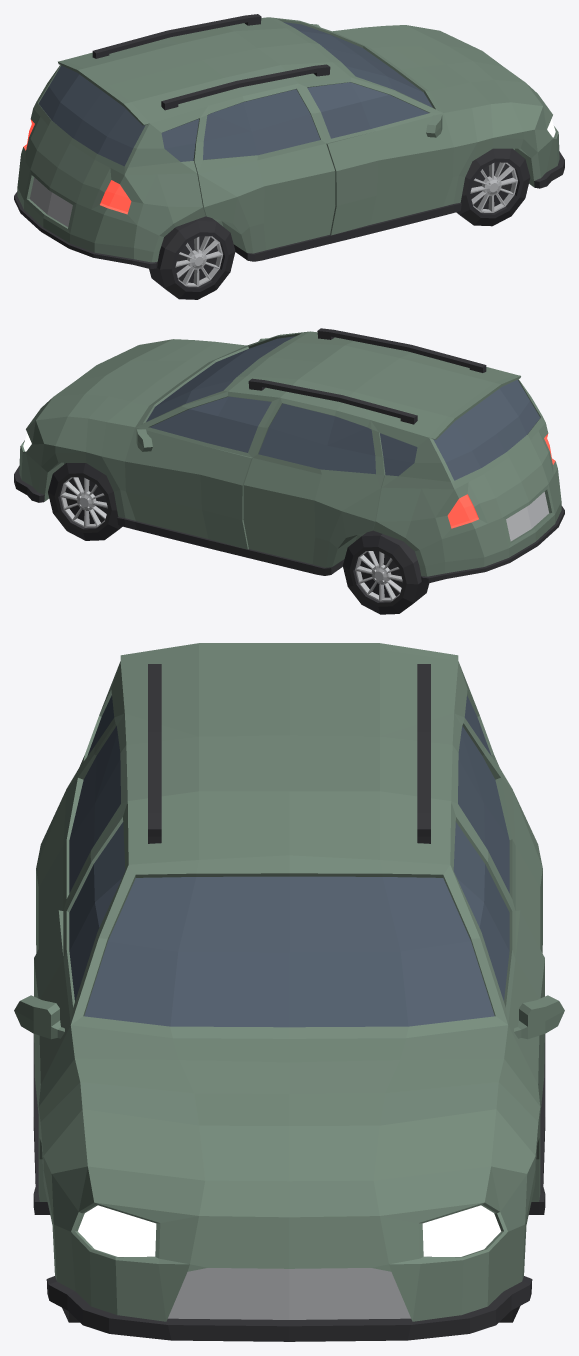
File: th50_suv.glb
The picture shows the model from 3 angles, top to bottom: view 1: azimuth 30°, elevation 25°; view 2: azimuth 150°, elevation 25°; view 3: azimuth 270°, elevation 25°; orthographic projection. The views are drawn at different scales.
Parts seen in each view (by area): view 1: Karosserie, Rad_HR, Rad_VR; view 2: Karosserie, Rad_HL, Rad_VL; view 3: Karosserie.
Boxes of the visible parts, x1,y1,x2,y2 form: Karosserie: (14,14,564,268); Rad_HR: (149,216,235,299); Rad_VR: (456,148,530,226); Karosserie: (14,328,564,583); Rad_HL: (343,530,429,614); Rad_VL: (48,463,122,540); Karosserie: (14,643,564,1341).
Bounding box in the file's own units: 4.21 × 1.53 × 2.11.
